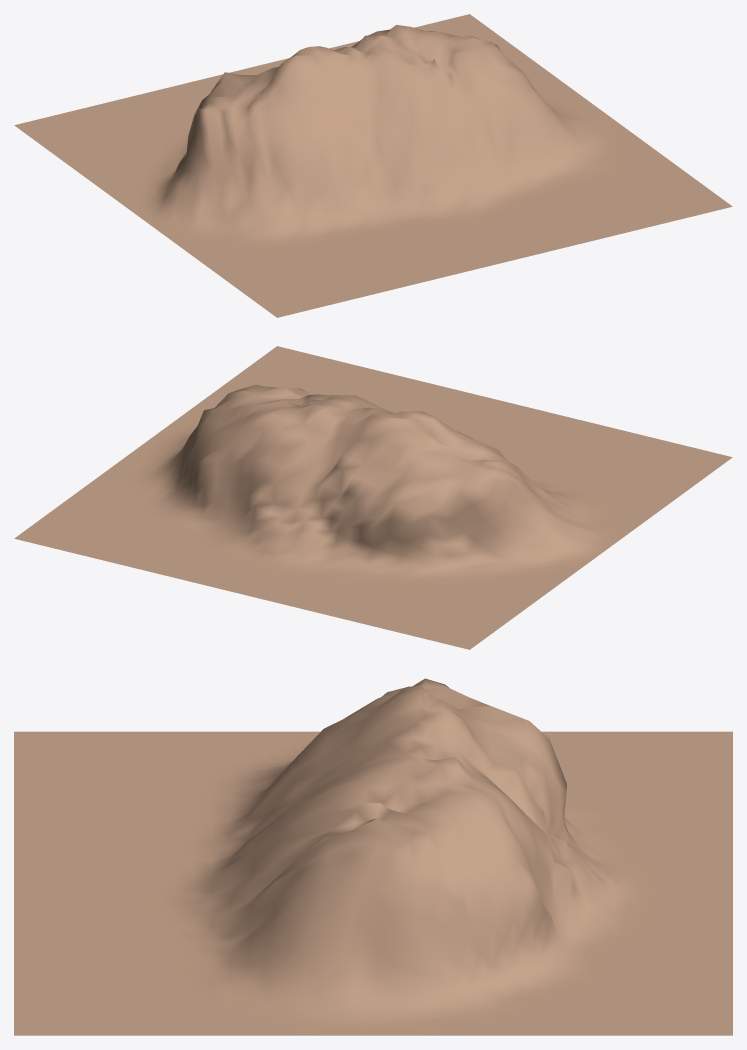
File: Dirt_Pile.fbx
3 renders of one model, top to bottom at view 1: azimuth 30°, elevation 25°; view 2: azimuth 150°, elevation 25°; view 3: azimuth 270°, elevation 25°, orthographic. The views are drawn at different scales.
Parts seen in each view (by area): view 1: plane; view 2: plane; view 3: plane.
Part boxes in pixels (box(x1,y1,x2,y2)): plane: box(14, 14, 732, 317); plane: box(14, 346, 732, 649); plane: box(14, 678, 732, 1035).
Size of the model in its own units: 300 by 70.34 by 300.
